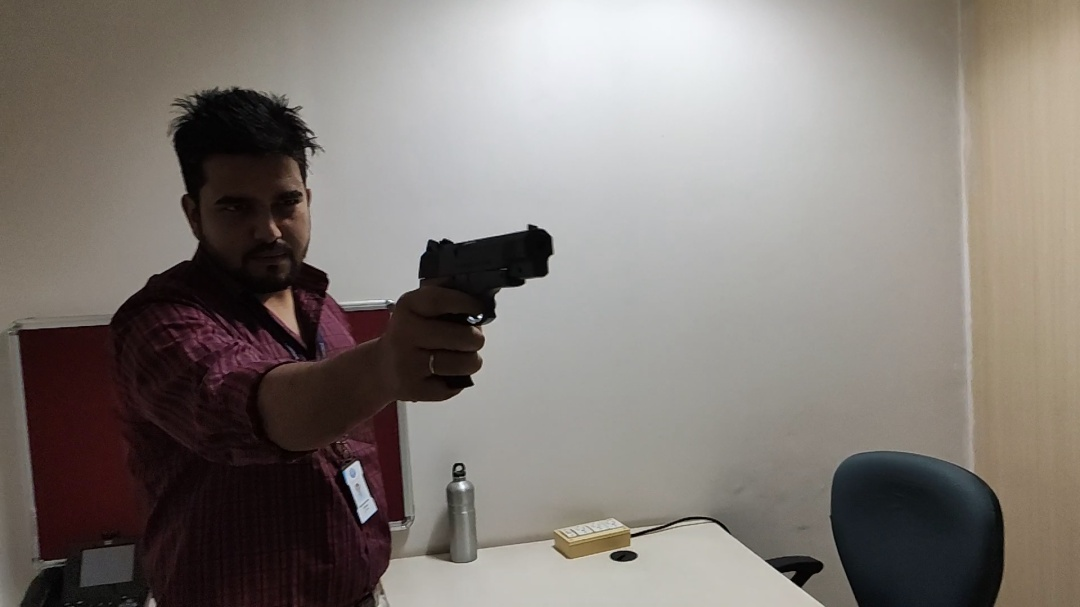gun: (415, 222, 558, 394)
